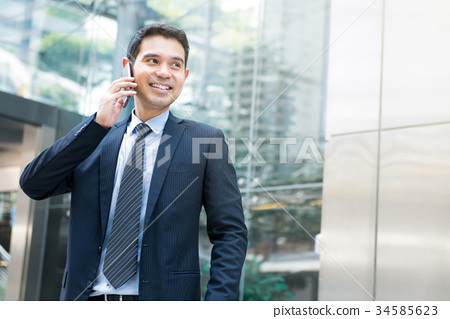phone: (115, 63, 136, 104)
talk: (101, 48, 184, 113)
